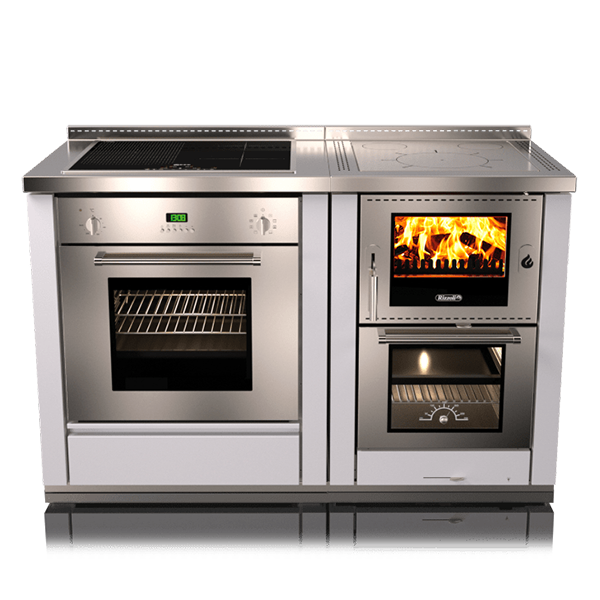stove: (5, 101, 594, 560)
